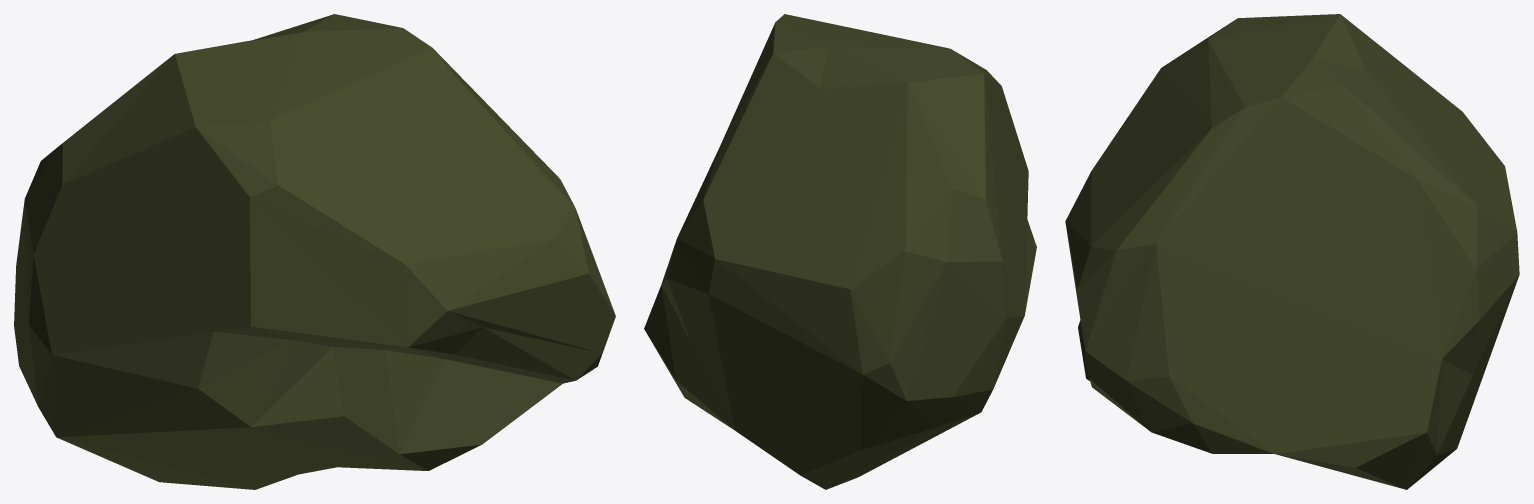
Rendered from SM_small_rock_45.fbx.
3 views of the same model, side by side, from view 1: azimuth 30°, elevation 25°; view 2: azimuth 150°, elevation 25°; view 3: azimuth 270°, elevation 25° (orthographic). The views are drawn at different scales.
Visible parts, largest first — view 1: small_rock_45; view 2: small_rock_45; view 3: small_rock_45.
Boxes of the visible parts, x1,y1,x2,y2 form: small_rock_45: (14, 14, 615, 489); small_rock_45: (644, 14, 1036, 489); small_rock_45: (1065, 14, 1519, 489).
Size of the model in its own units: 15.14 by 14.88 by 14.25.
